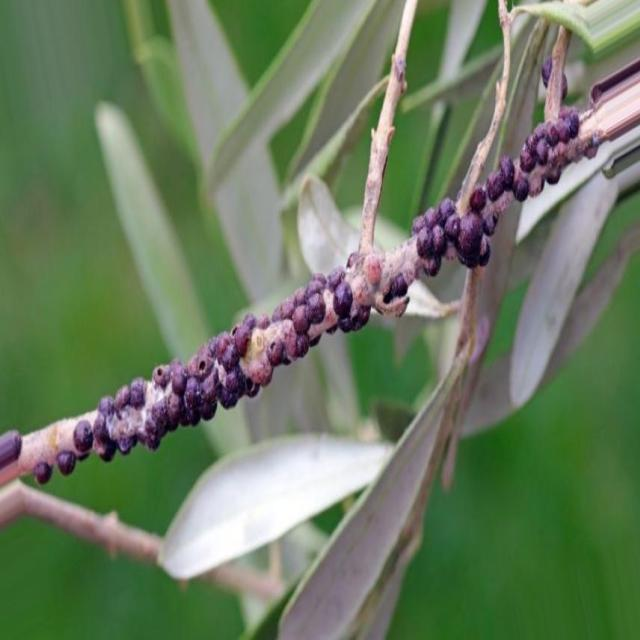Black Scale: (56, 253, 408, 479), (412, 107, 599, 276)
